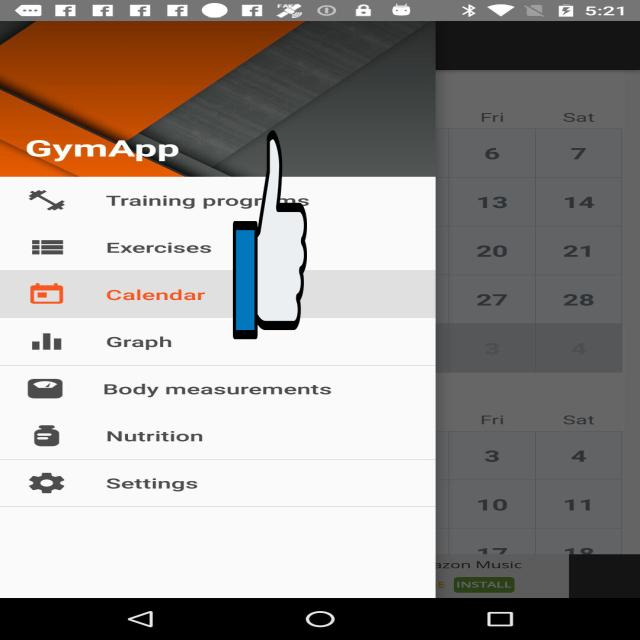privacy zuckering: (233, 125, 307, 344)
